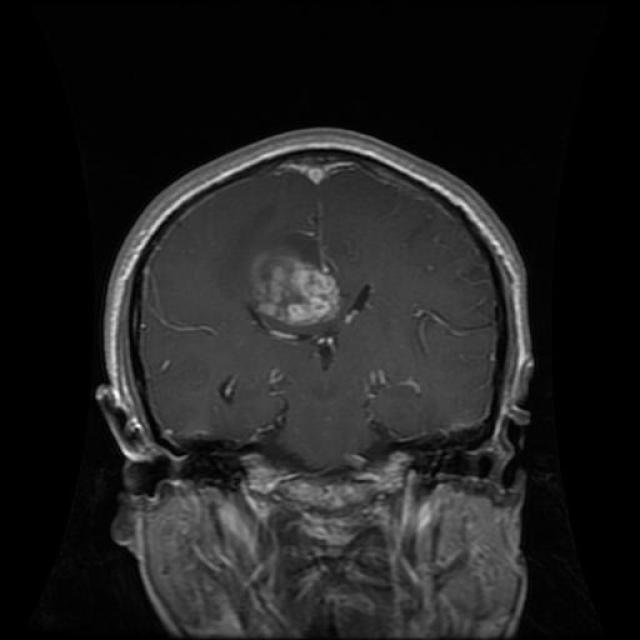glioma: (239, 238, 369, 367)
